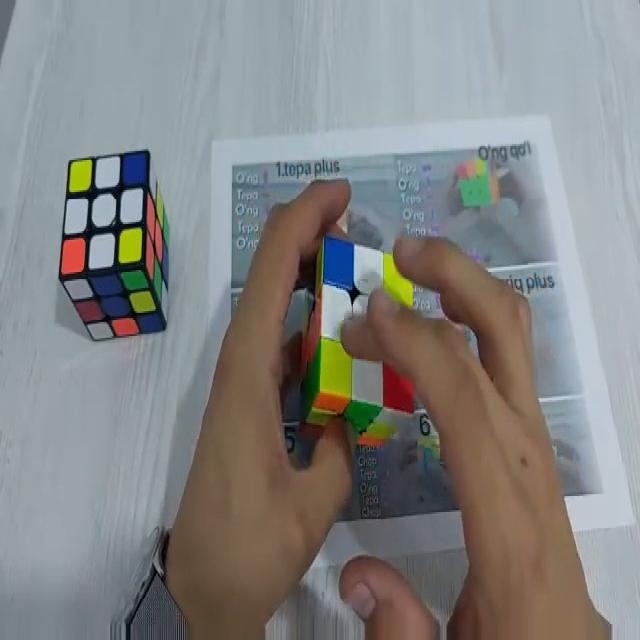Rub: (302, 236, 417, 454), (61, 147, 170, 344)
